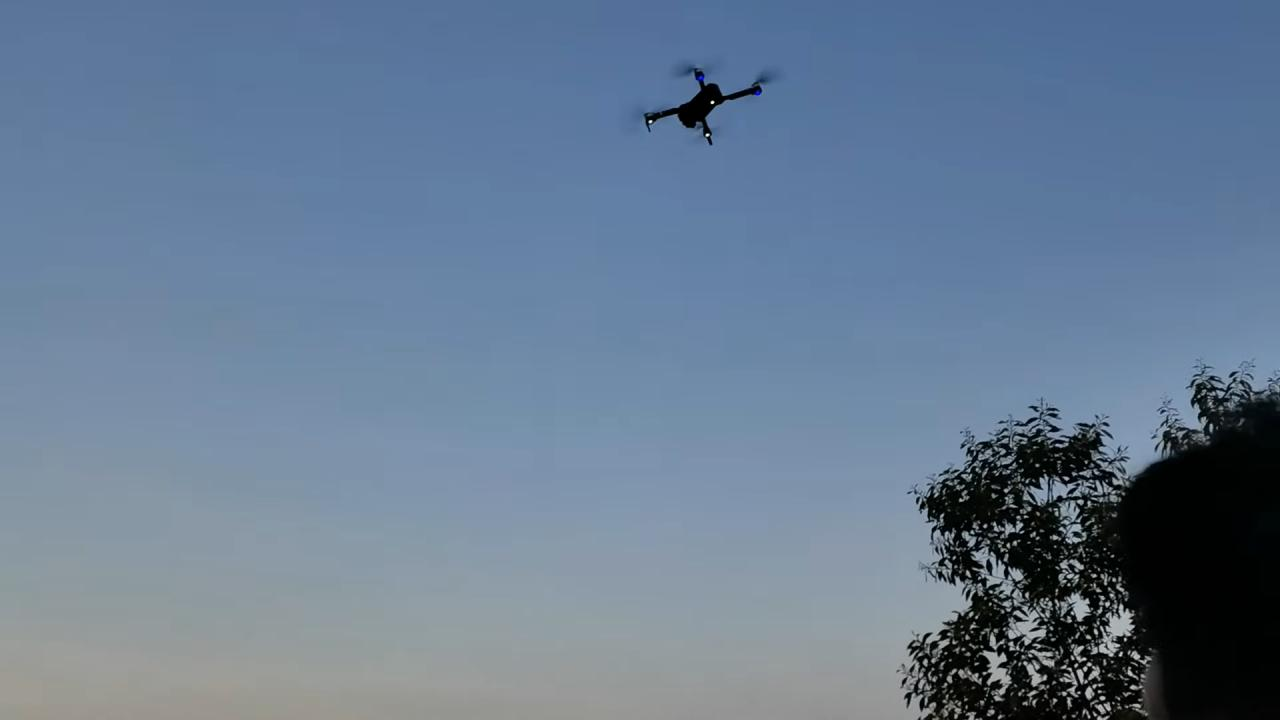Drone: (630, 47, 791, 159)
